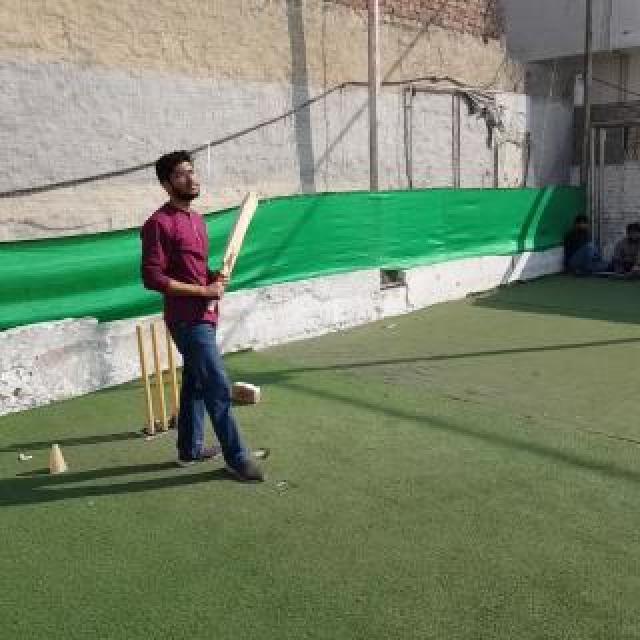bat: (206, 190, 260, 314)
